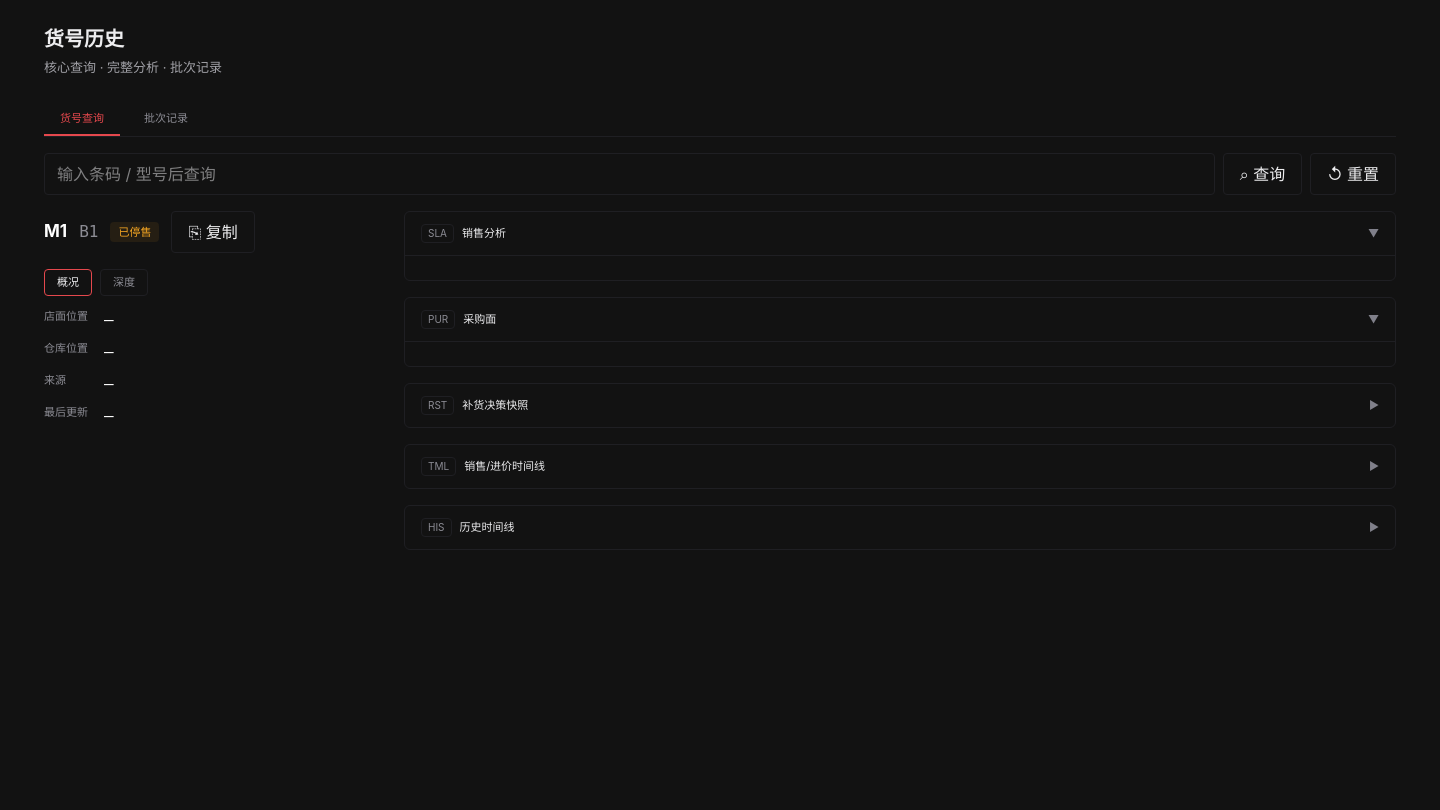
Test: HistoryPage › hit 但事件空 → 空态
The width and height of the screenshot is (1440, 810).
Click the button with id "sbcard-his" at (436, 528), box [405,506,1395,549]
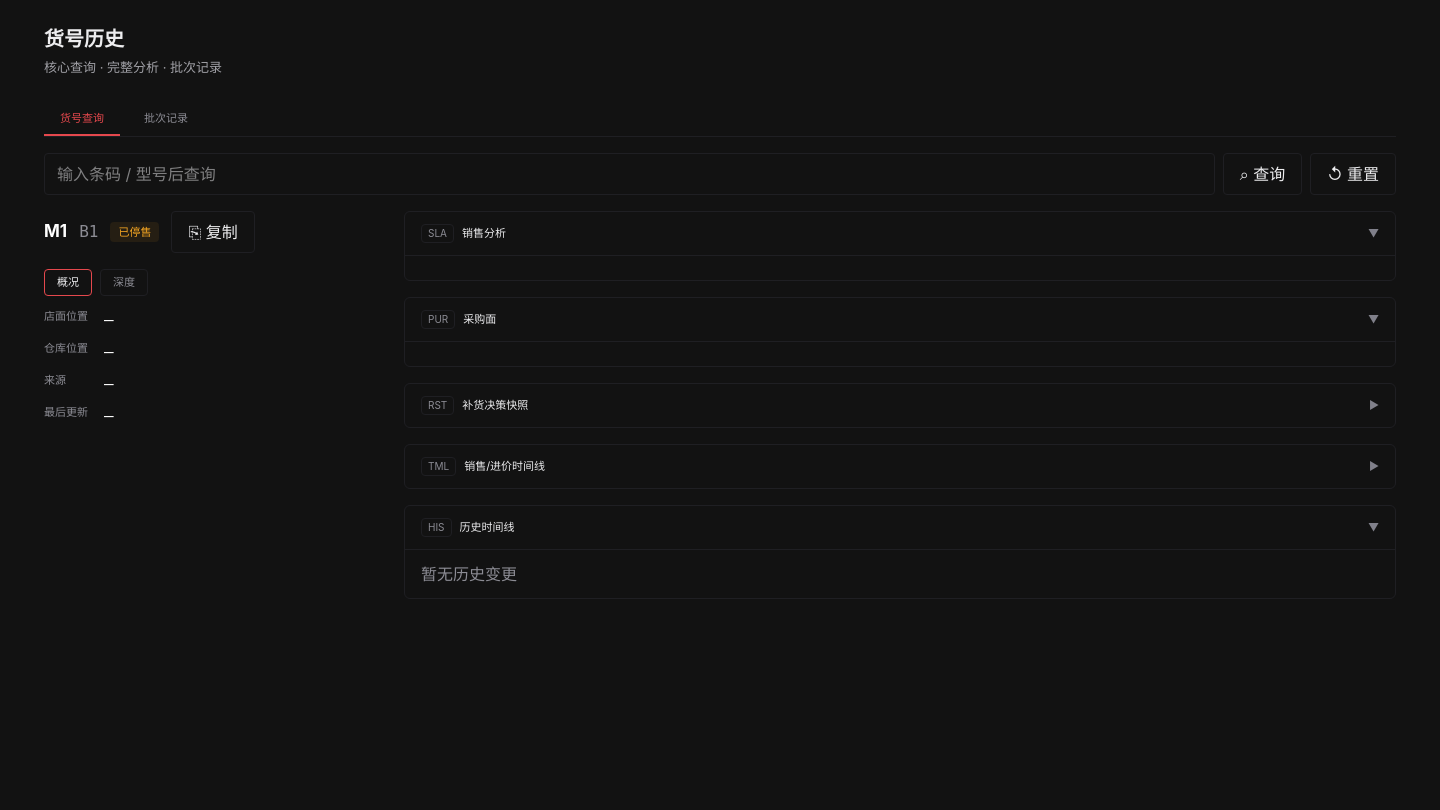
Expected: the element with id "sbpanel-his" reads "暂无历史变更", [421,564,517,584]
